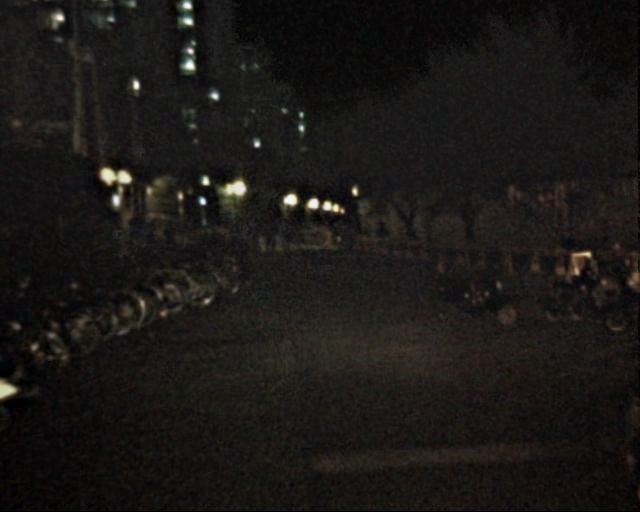person: (226, 218, 257, 250), (274, 215, 292, 260), (112, 227, 130, 270), (144, 221, 161, 262), (160, 223, 176, 263), (373, 221, 389, 261), (261, 221, 277, 259), (291, 222, 305, 245)
